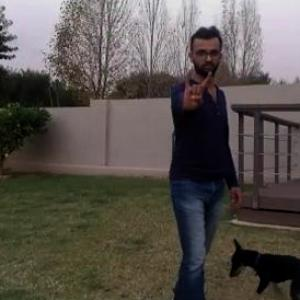takeoff-hand: (175, 59, 214, 112)
